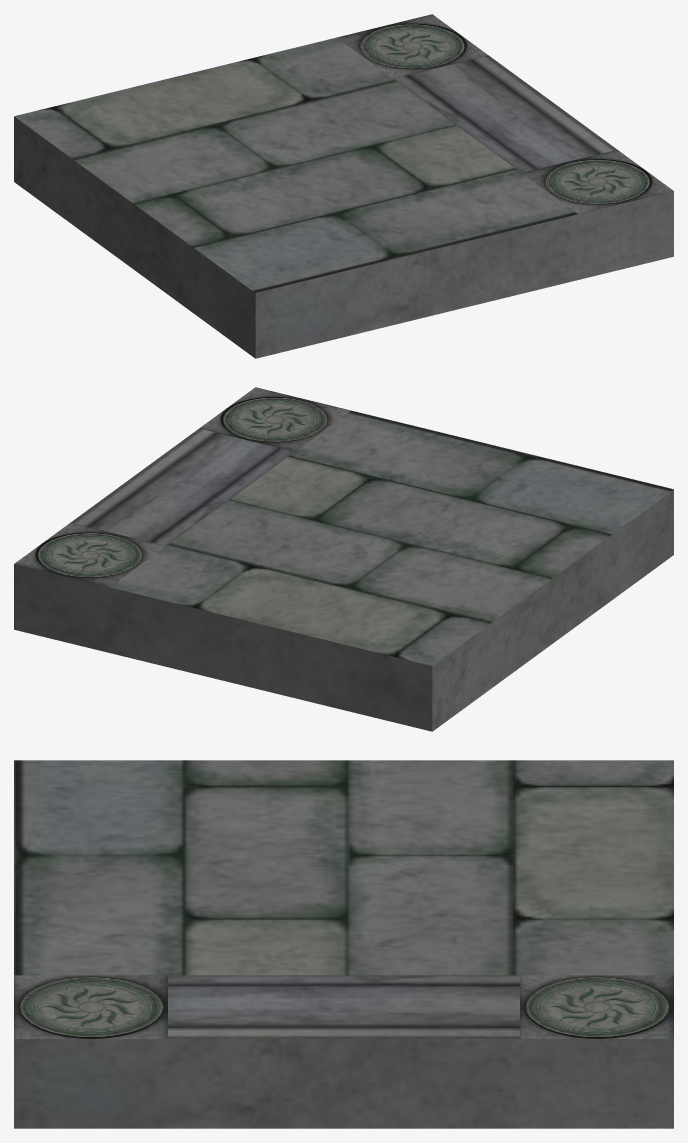
File: floor_small_trim_R_01.glb
3 renders of one model, top to bottom at view 1: azimuth 30°, elevation 25°; view 2: azimuth 150°, elevation 25°; view 3: azimuth 270°, elevation 25°, orthographic. The views are drawn at different scales.
Visible parts, largest first — view 1: floor_small_trim_R_01; view 2: floor_small_trim_R_01; view 3: floor_small_trim_R_01.
Boxes of the visible parts, bbox=[...] form: floor_small_trim_R_01: bbox=[14, 14, 673, 358]; floor_small_trim_R_01: bbox=[14, 387, 673, 731]; floor_small_trim_R_01: bbox=[14, 760, 673, 1128].
Bounding box in the file's own units: 2 × 0.3 × 2.
1 material, 1 textured.
